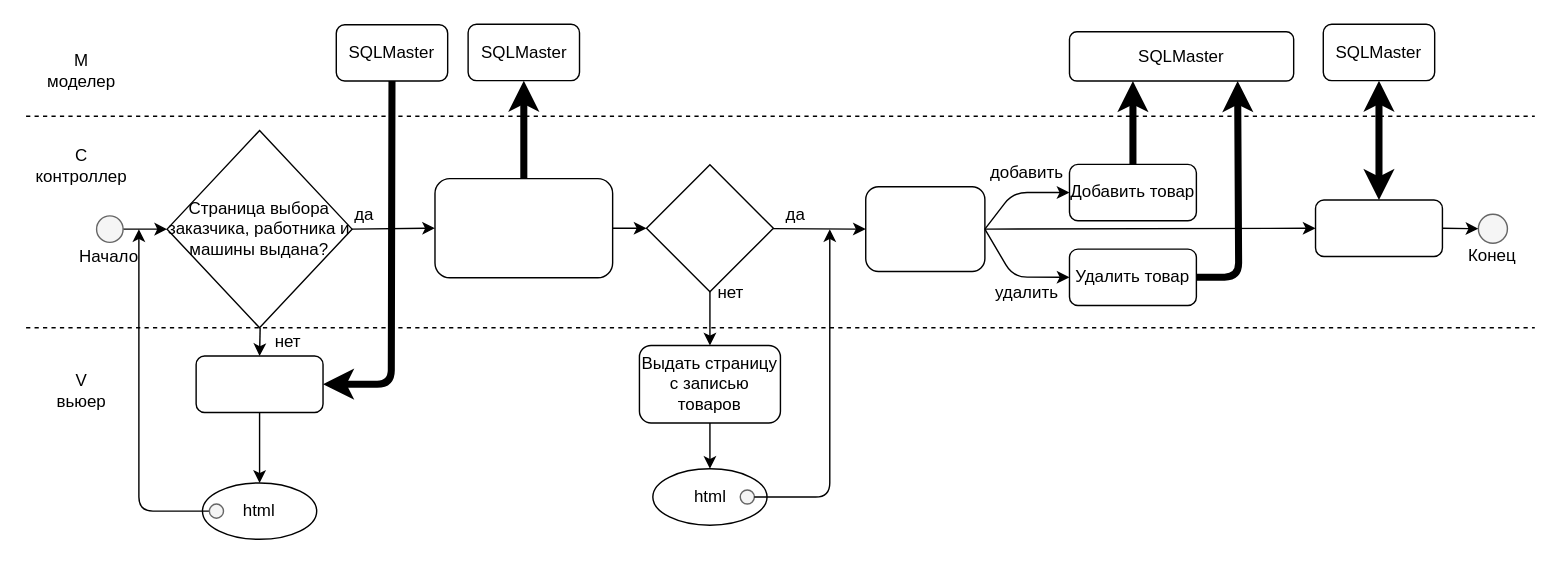
This 1561x565 diagram has some shape labels left out. The shapes that lost their labels are listed below. From the top down, each one's centre as x and y in pixels, then its label:
At (523,227): "Запомнить выбор пользователя: заказчика, машину, сотрудника".
At (709,227): "Страница товаров выдана?".
At (924,228): "Определить выбор пользователя".
At (1378,227): "Сформировать заказ".
At (259,383): "Выдать страницу".
